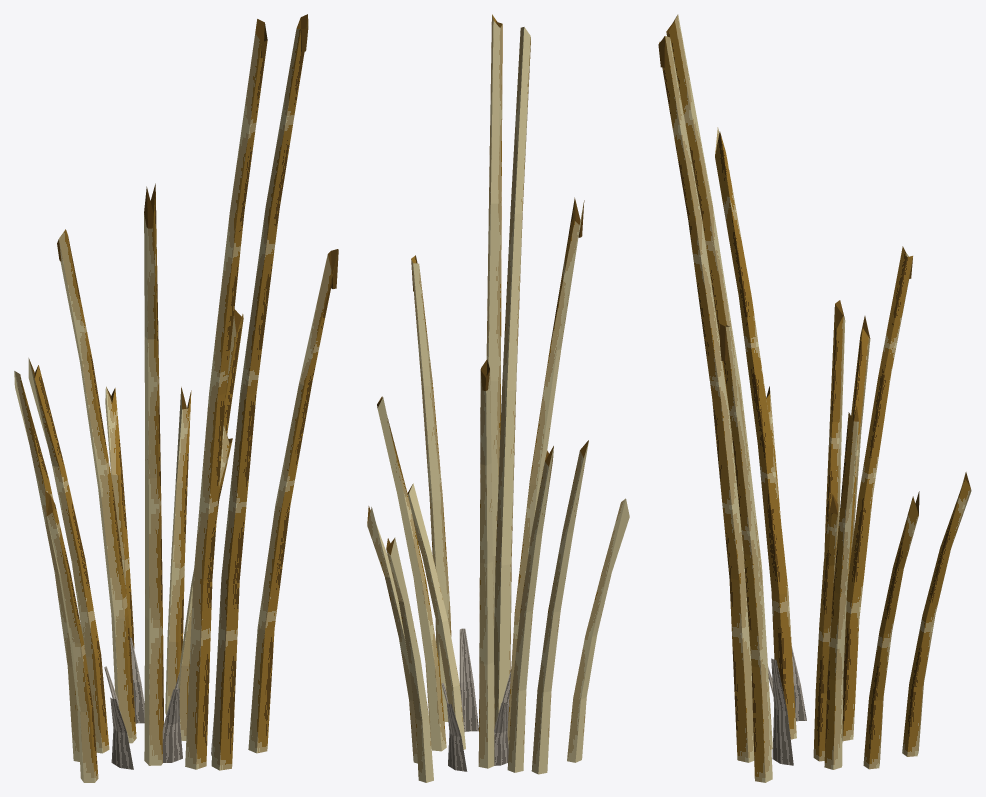
File: FLO-03_Barbacana.gltf
3 renders of one model, left to right at view 1: azimuth 30°, elevation 25°; view 2: azimuth 150°, elevation 25°; view 3: azimuth 270°, elevation 25°, orthographic. The views are drawn at different scales.
Visible parts, largest first — view 1: FLO-03_Barbacana; view 2: FLO-03_Barbacana; view 3: FLO-03_Barbacana.
Boxes of the visible parts, bbox=[...] form: FLO-03_Barbacana: bbox=[14, 14, 338, 782]; FLO-03_Barbacana: bbox=[367, 14, 629, 782]; FLO-03_Barbacana: bbox=[658, 14, 971, 782].
Size of the model in its own units: 1.17 by 3.19 by 1.22.
Materials: 1 (1 with a texture image).
